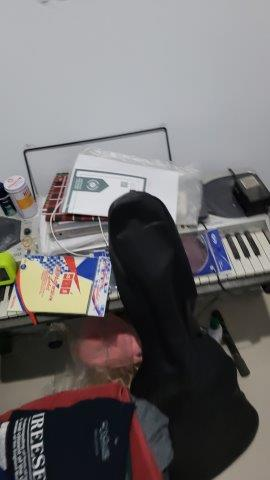kertas: (62, 153, 181, 229)
